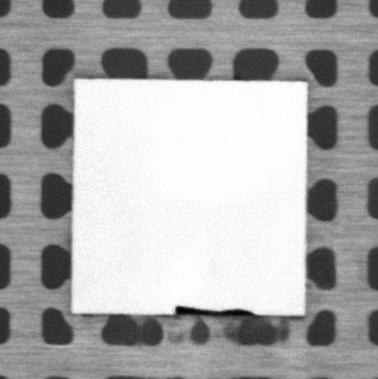DIE_BROKEN: (172, 304, 259, 318)
